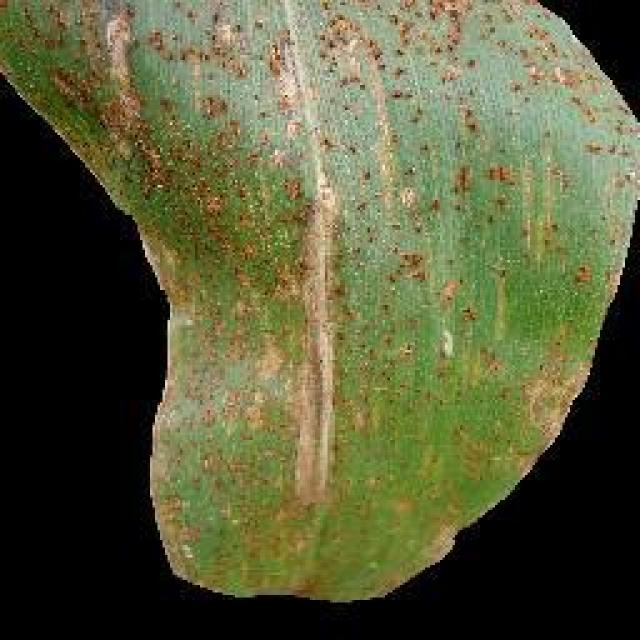Corn Common Rust: (120, 0, 512, 570)
